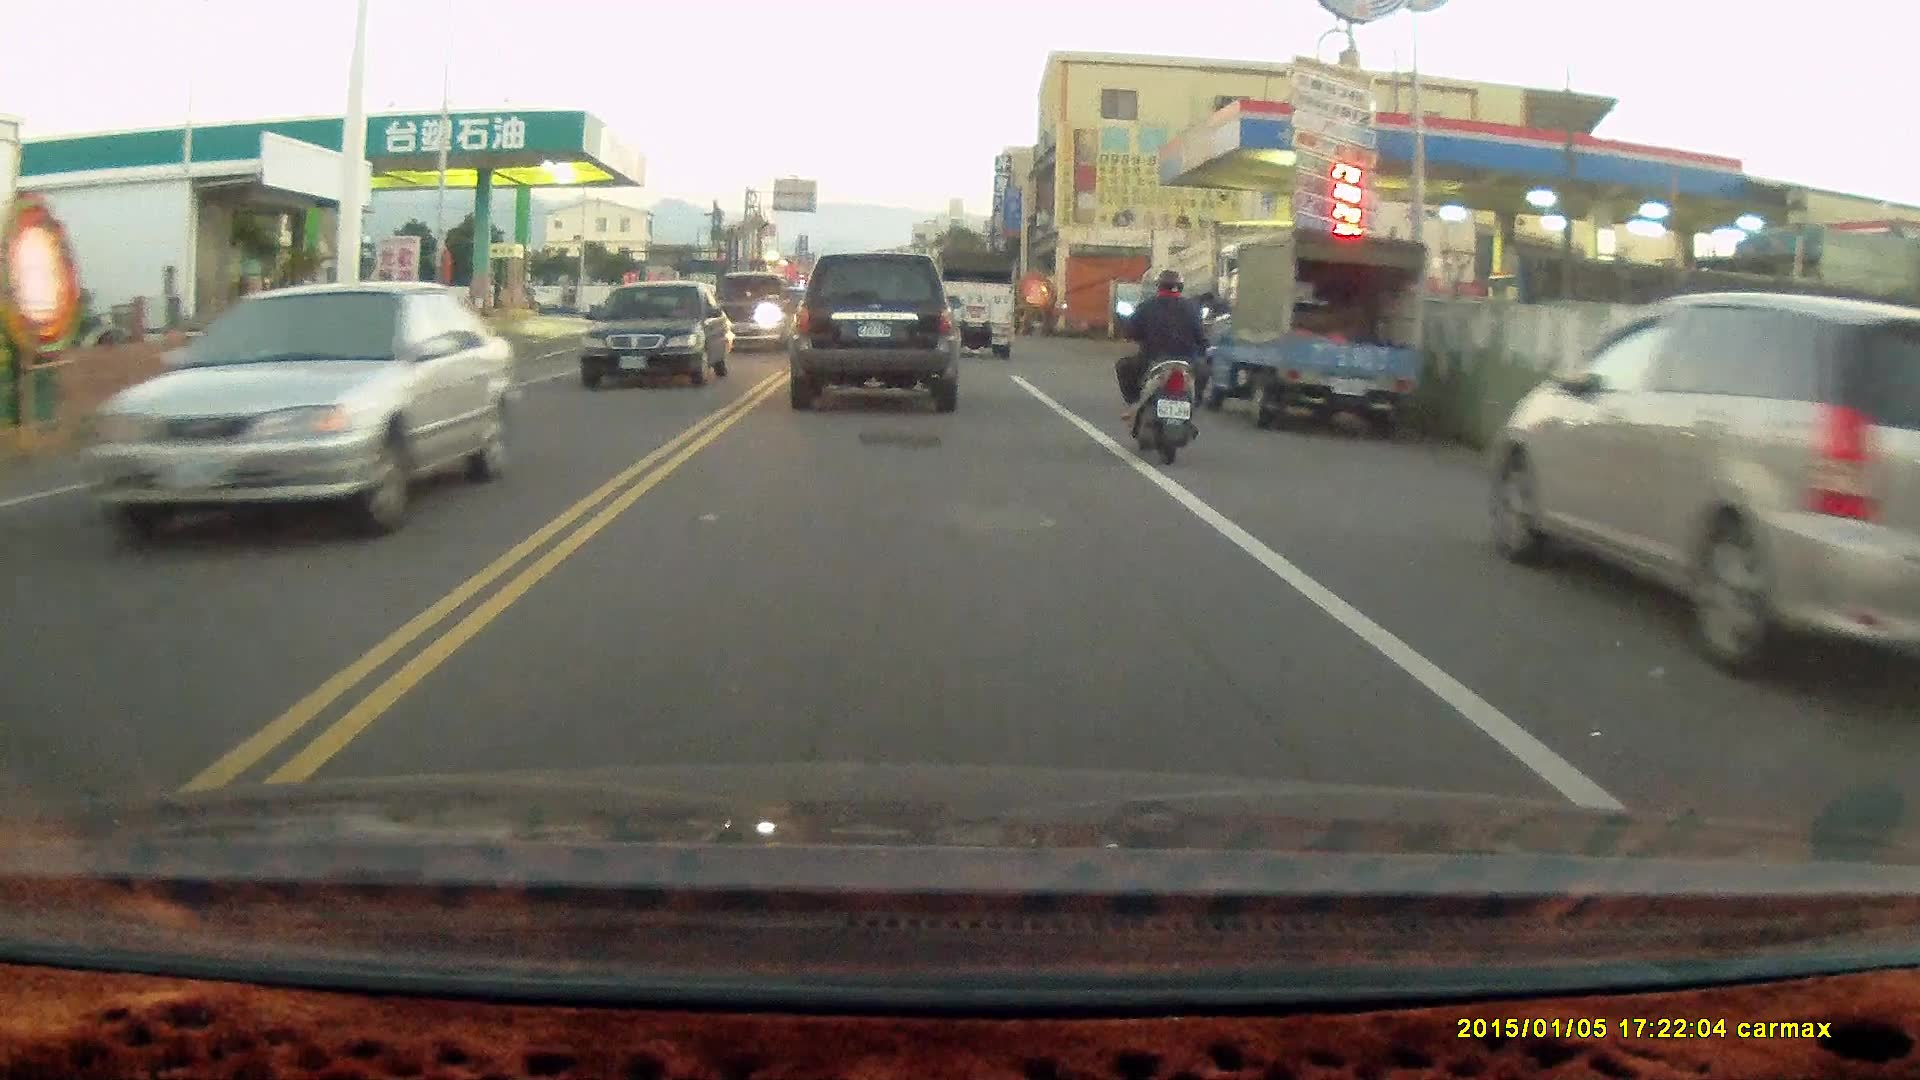rider: (1111, 269, 1214, 468)
vehicle: (1500, 291, 1911, 686), (95, 282, 515, 545), (1200, 234, 1432, 435), (785, 252, 960, 414), (577, 280, 736, 392), (934, 248, 1014, 360)
